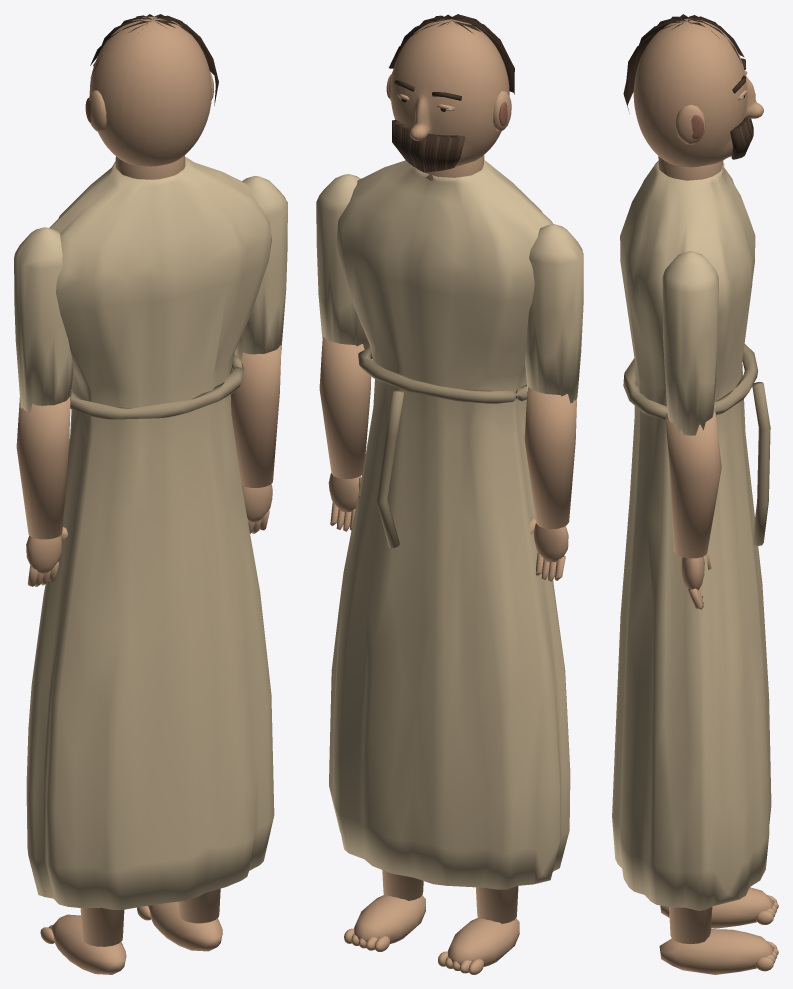
Rendered from man.glb.
The picture shows the model from 3 angles, left to right: view 1: azimuth 30°, elevation 25°; view 2: azimuth 150°, elevation 25°; view 3: azimuth 270°, elevation 25°; orthographic projection. The views are drawn at different scales.
Parts seen in each view (by area): view 1: Robe, Face, LSleeve, LArmSkin, RArmSkin, RSleeve, Sash, LFootSkin, RFootSkin, LKnee, LPalm, LBrow (+3 smaller); view 2: Robe, Face, LSleeve, LArmSkin, RArmSkin, RSleeve, LBrow, RFootSkin, LFootSkin, Sash, BeltTie, LPalm (+5 smaller); view 3: Robe, Face, RSleeve, RArmSkin, RFootSkin, LBrow, Sash, BeltTie, LFootSkin, RKnee, RPalm, Neck (+1 smaller).
Boxes of the visible parts, x1,y1,x2,y2 form: Robe: (26, 157, 274, 909); Face: (89, 16, 211, 166); LSleeve: (14, 227, 73, 412); LArmSkin: (16, 396, 70, 539); RArmSkin: (230, 345, 281, 487); RSleeve: (234, 176, 287, 360); Sash: (70, 354, 244, 419); LFootSkin: (40, 914, 126, 974); RFootSkin: (137, 901, 222, 951); LKnee: (80, 907, 124, 946); LPalm: (26, 527, 67, 586); LBrow: (90, 14, 218, 105); Robe: (329, 160, 570, 889); Face: (390, 19, 509, 166); LSleeve: (525, 224, 583, 403); LArmSkin: (524, 387, 576, 529); RArmSkin: (319, 337, 371, 479); RSleeve: (316, 174, 370, 349); LBrow: (389, 14, 514, 172); RFootSkin: (344, 895, 425, 951); LFootSkin: (438, 918, 519, 974); Sash: (358, 347, 527, 403); BeltTie: (376, 389, 404, 548); LPalm: (529, 518, 568, 581); Robe: (612, 161, 771, 910); Face: (633, 18, 763, 167); RSleeve: (662, 251, 718, 435); RArmSkin: (665, 410, 721, 558); RFootSkin: (659, 929, 778, 974); LBrow: (623, 14, 753, 159); Sash: (623, 344, 757, 419); BeltTie: (752, 382, 770, 545); LFootSkin: (660, 887, 778, 928); RKnee: (669, 907, 712, 944); RPalm: (681, 555, 711, 609); Neck: (658, 156, 723, 180).
Bounding box in the file's own units: 0.3615 × 1.22 × 0.1985.
